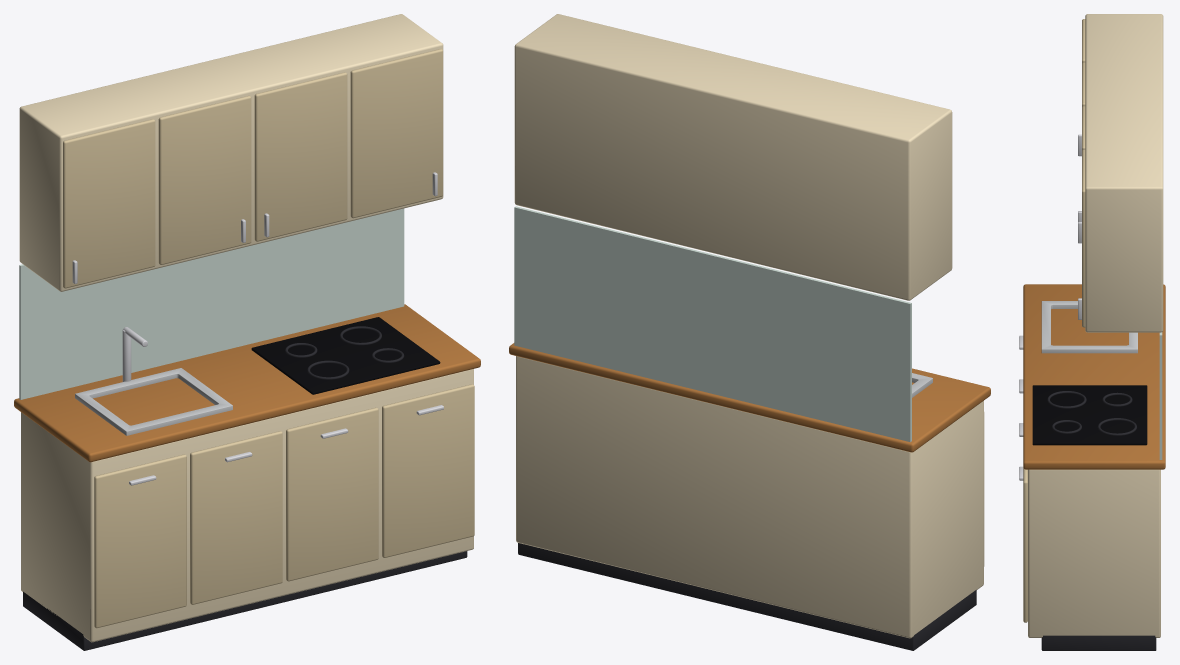
File: kitchen_counter.glb
3 views of the same model, side by side, from view 1: azimuth 30°, elevation 25°; view 2: azimuth 150°, elevation 25°; view 3: azimuth 270°, elevation 25° (orthographic). The views are drawn at different scales.
Visible parts, largest first — view 1: kitchen_counter; view 2: kitchen_counter; view 3: kitchen_counter.
Part boxes in pixels (<box>): kitchen_counter: <box>14,14,480,650</box>; kitchen_counter: <box>509,14,990,650</box>; kitchen_counter: <box>1019,14,1165,650</box>.
Size of the model in its own units: 1.84 by 2.23 by 0.6375.
